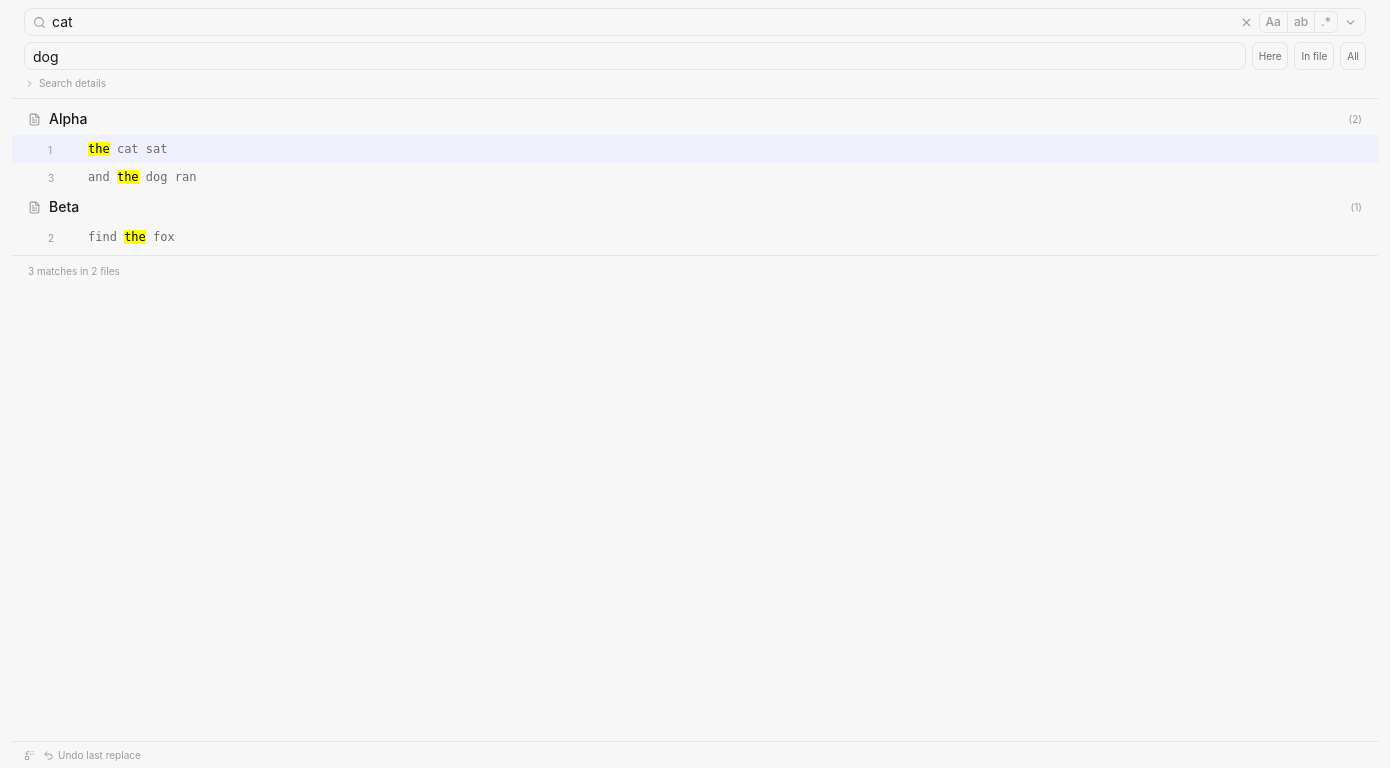
Test: SidebarSearch (Search view) › prints no skip note when the only dropped files had no hit
Click the button with test id "search-replace-all".
click(1353, 56)  # box [1340,42,1366,70]
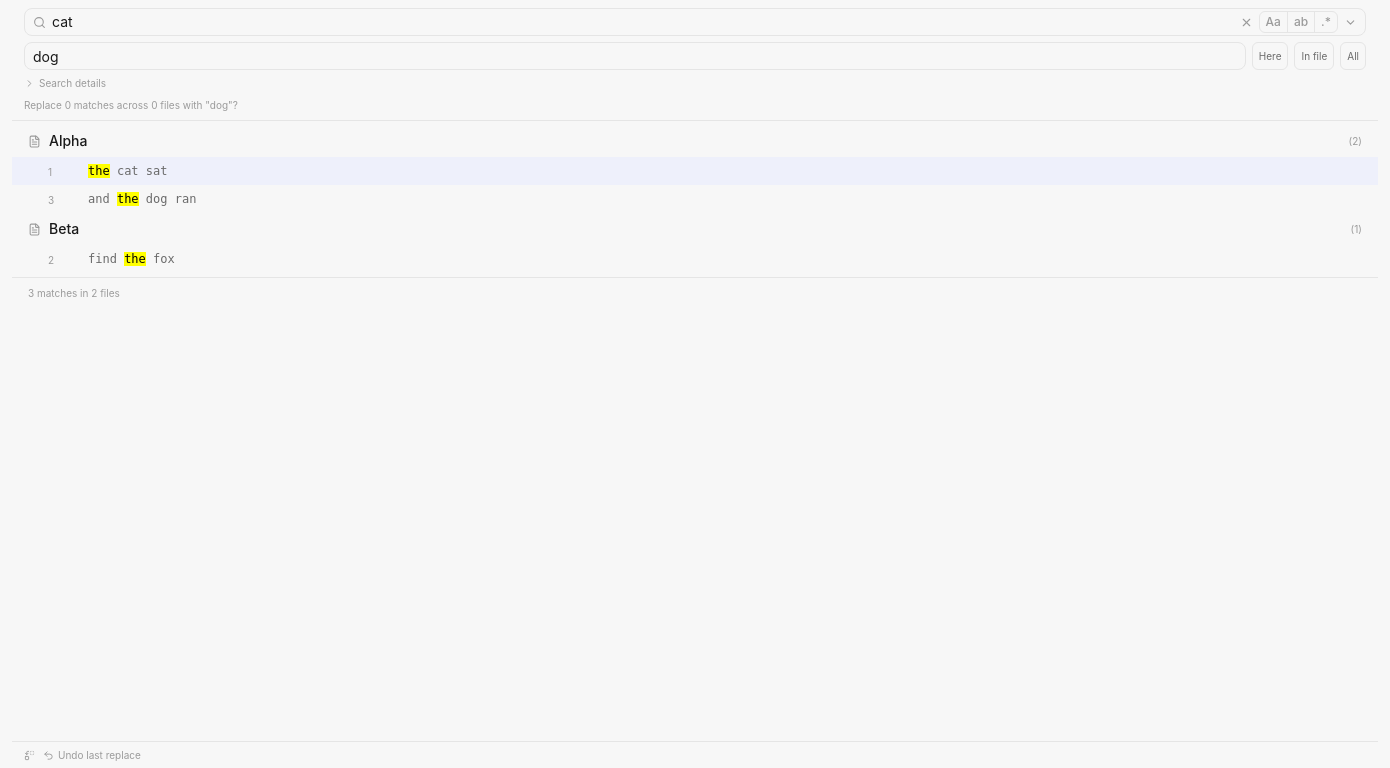
Expected: the text "Replace 0 matches across 0 files with \"dog\"?" is shown, [24,99,238,111]
